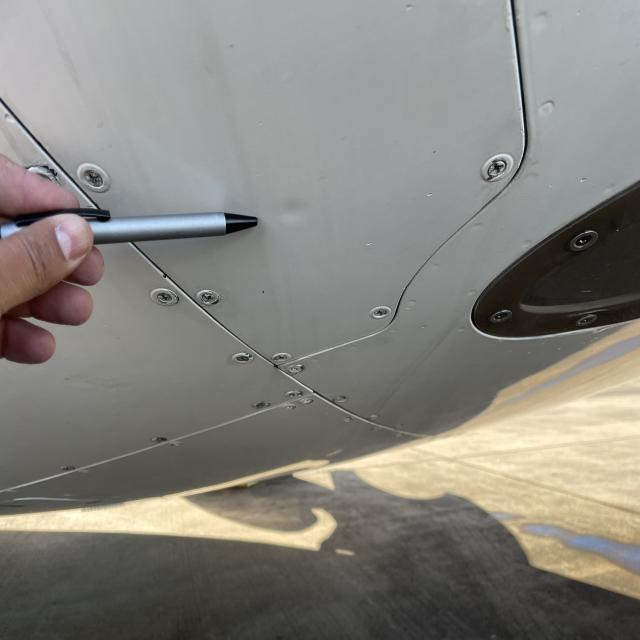dent: (270, 188, 314, 232)
